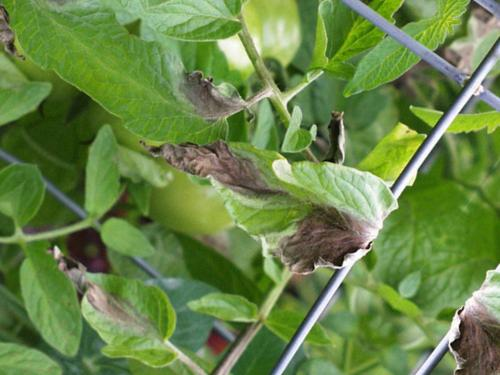Tomato leaf late blight: (130, 49, 411, 304), (71, 6, 269, 201), (10, 210, 212, 375)
